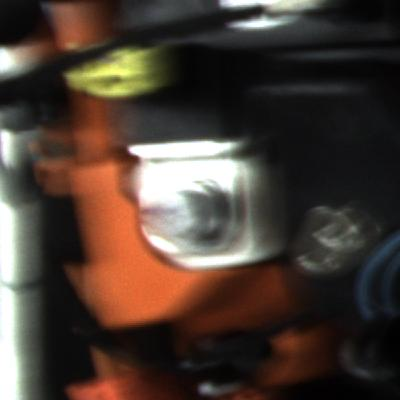nut_b: (133, 176, 234, 264)
